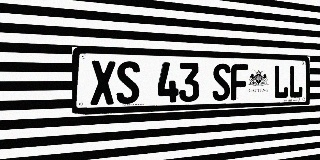3: (179, 62, 199, 102)
4: (158, 62, 179, 103)
F: (231, 64, 248, 100)
L: (274, 65, 289, 99), (289, 65, 303, 98)
S: (116, 61, 140, 104), (212, 63, 231, 101)
X: (90, 60, 115, 105)
